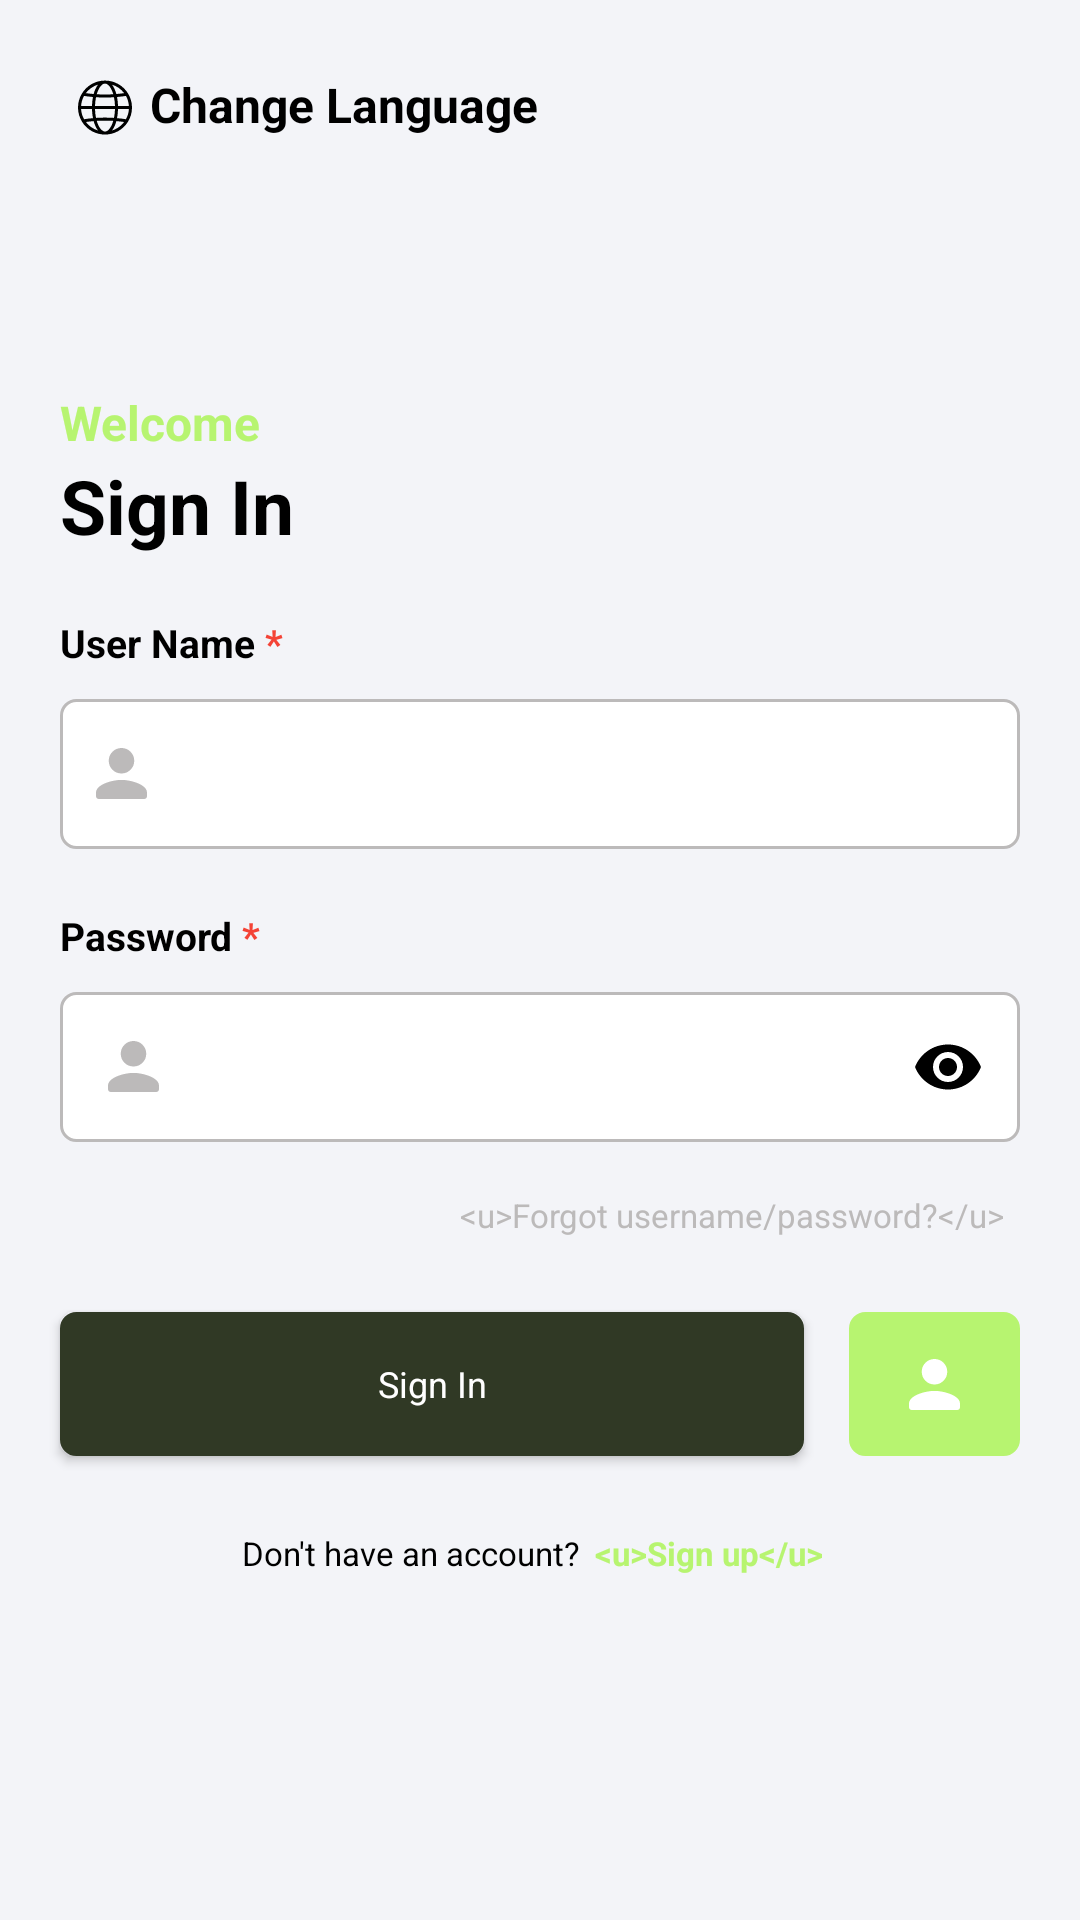

Named icons in this screenshot (1080x1920) and their bounding boxes, BBox(x1, y1, x2, y2):
profile: BBox(849, 1312, 1020, 1456)
